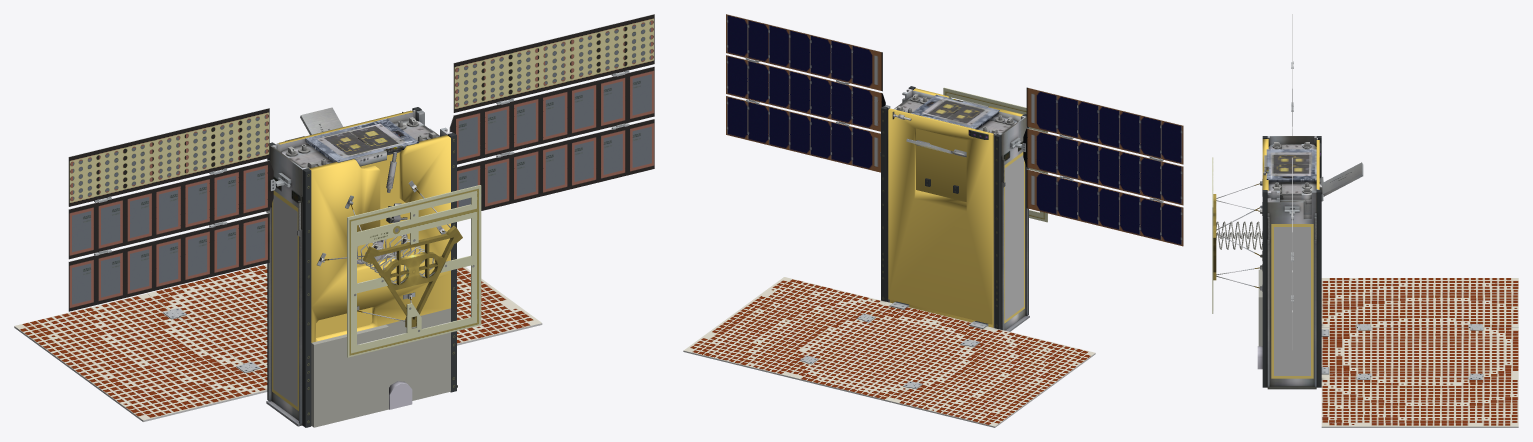
File: marco.glb
3 renders of one model, left to right at view 1: azimuth 30°, elevation 25°; view 2: azimuth 150°, elevation 25°; view 3: azimuth 270°, elevation 25°, orthographic. The views are drawn at different scales.
Parts seen in each view (by area): view 1: MarCo_BUS, Reflectarray_left, Antenna, Array_left_middle, Array_left_top, Array_right_top, Array_left_bottom, Array_right_middle, Array_right_bottom, Reflectarray_middle, silver_squares_side, Reflectarray_right (+2 smaller); view 2: MarCo_BUS, Reflectarray_left, Reflectarray_middle, Reflectarray_right, Array_left_middle, Array_left_top, Array_left_bottom, Array_right_top, Array_right_middle, Array_right_bottom, silver_squares_side, Antenna; view 3: Reflectarray_right, Reflectarray_middle, Reflectarray_left, MarCo_BUS, silver_squares_side, Antenna, gold_tape_sides, Antenna_Springs.
Part boxes in pixels (x1,y1,x2,y2): MarCo_BUS: [267, 107, 456, 427]; Reflectarray_left: [14, 293, 267, 421]; Antenna: [266, 107, 481, 426]; Array_left_middle: [68, 160, 275, 259]; Array_left_top: [68, 108, 269, 206]; Array_right_top: [453, 14, 654, 112]; Array_left_bottom: [68, 212, 269, 311]; Array_right_middle: [449, 66, 654, 164]; Array_right_bottom: [457, 119, 654, 210]; Reflectarray_middle: [147, 264, 267, 380]; silver_squares_side: [273, 195, 297, 406]; Reflectarray_right: [457, 267, 542, 345]; MarCo_BUS: [881, 86, 1028, 330]; Reflectarray_left: [891, 327, 1095, 427]; Reflectarray_middle: [787, 301, 991, 402]; Reflectarray_right: [683, 277, 887, 376]; Array_left_middle: [1021, 128, 1183, 205]; Array_left_top: [1026, 87, 1183, 164]; Array_left_bottom: [1026, 169, 1183, 246]; Array_right_top: [726, 14, 882, 91]; Array_right_middle: [726, 55, 885, 131]; Array_right_bottom: [726, 96, 880, 172]; silver_squares_side: [1005, 155, 1023, 320]; Antenna: [880, 87, 1047, 331]; Reflectarray_right: [1321, 376, 1518, 427]; Reflectarray_middle: [1321, 327, 1518, 376]; Reflectarray_left: [1321, 278, 1518, 327]; MarCo_BUS: [1257, 136, 1321, 387]; silver_squares_side: [1274, 227, 1310, 375]; Antenna: [1212, 157, 1363, 389]; gold_tape_sides: [1271, 224, 1313, 378]; Antenna_Springs: [1216, 221, 1262, 249].
Size of the model in its own units: 0.887 by 0.448 by 0.5264.
7 materials, 3 textured.
